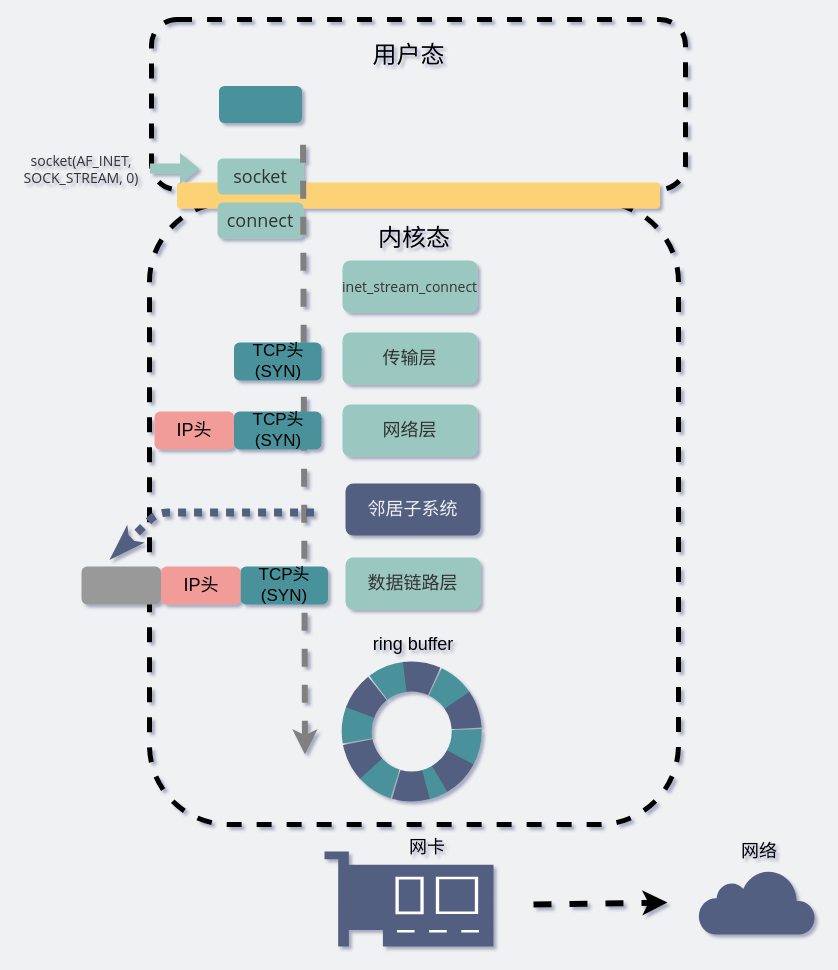
Some shapes in this 838 by 970 pixel diagram are drawn without their labels. The shapes that lost their labels are listed below. From the top down, each one's centre as x and y in pixels, then its label:
the point at 260,104: connect()
the point at 418,195: socket接口
the point at 120,585: MAC头
